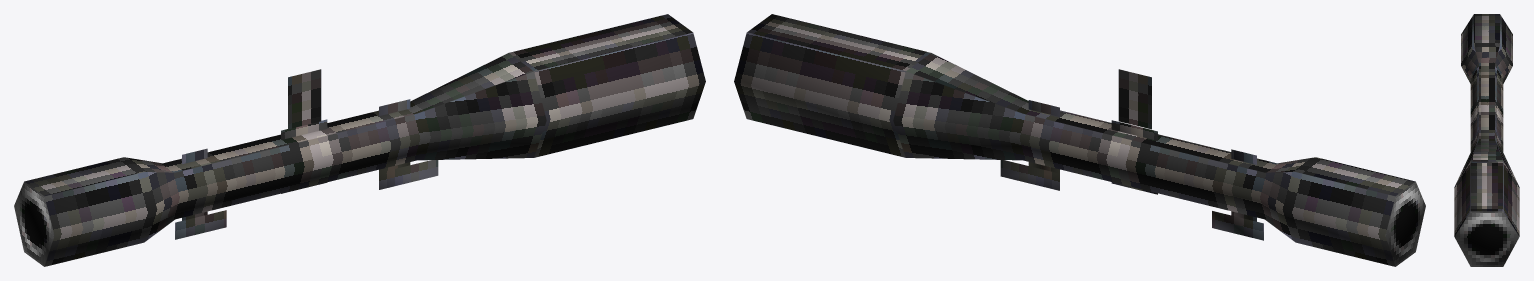
Rendered from mcmillanM87__N003_scope_v0200.glb.
3 renders of one model, left to right at view 1: azimuth 30°, elevation 25°; view 2: azimuth 150°, elevation 25°; view 3: azimuth 270°, elevation 25°, orthographic. The views are drawn at different scales.
Parts seen in each view (by area): view 1: N003_scope_v0200; view 2: N003_scope_v0200; view 3: N003_scope_v0200.
Boxes of the visible parts, bbox=[...] form: N003_scope_v0200: bbox=[14, 14, 705, 266]; N003_scope_v0200: bbox=[734, 14, 1425, 266]; N003_scope_v0200: bbox=[1454, 14, 1519, 266].
Size of the model in its own units: 0.415 by 0.0832 by 0.0564.
2 materials, 2 textured.
